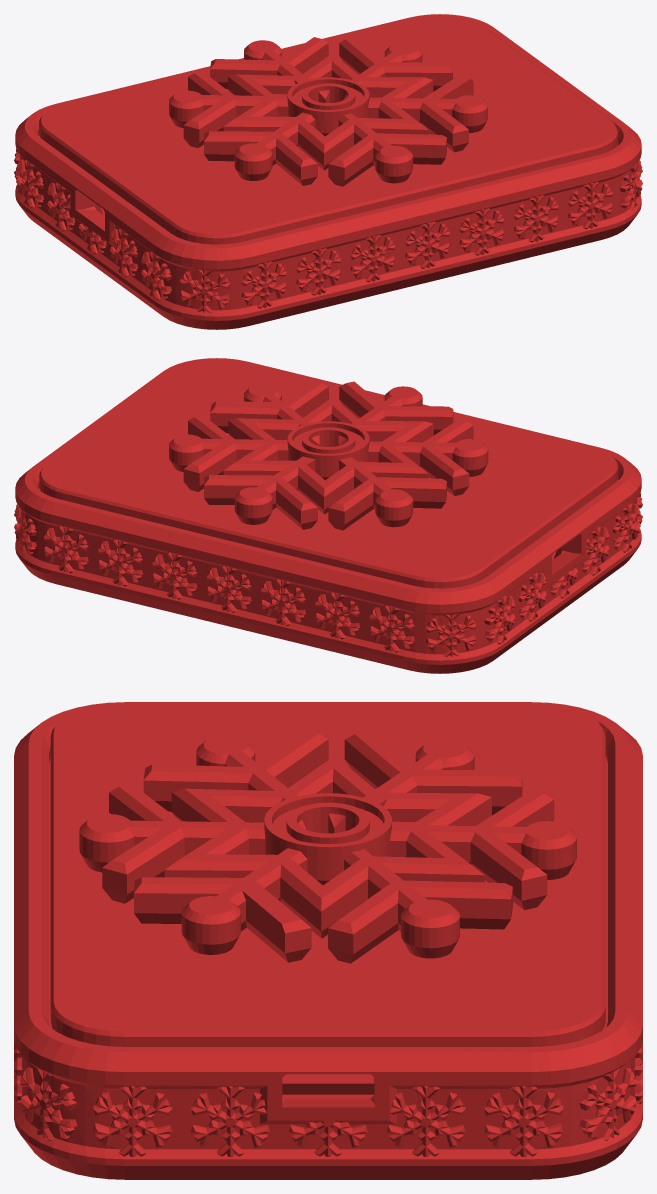
The model's file is gift-card-box.glb.
The picture shows the model from 3 angles, top to bottom: view 1: azimuth 30°, elevation 25°; view 2: azimuth 150°, elevation 25°; view 3: azimuth 270°, elevation 25°; orthographic projection. The views are drawn at different scales.
Visible parts, largest first — view 1: gift-card-box; view 2: gift-card-box; view 3: gift-card-box.
Part boxes in pixels (x1,y1,x2,y2): gift-card-box: (14, 14, 642, 329); gift-card-box: (14, 358, 642, 673); gift-card-box: (14, 702, 642, 1179).
Bounding box in the file's own units: 116 × 27.5 × 85.
